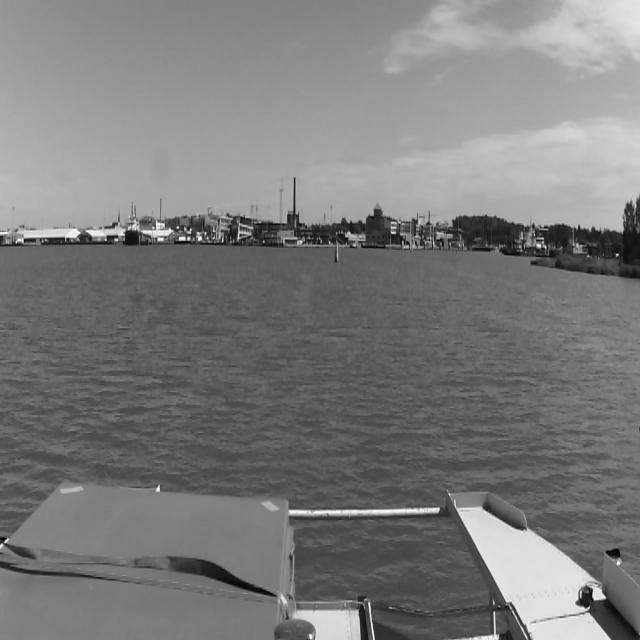buoy: (334, 240, 340, 262)
ship: (126, 202, 152, 245)
